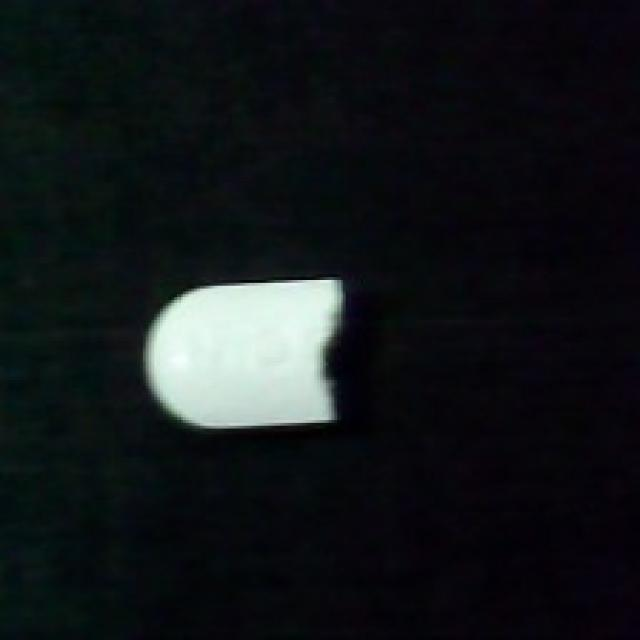defected: (140, 269, 351, 437)
